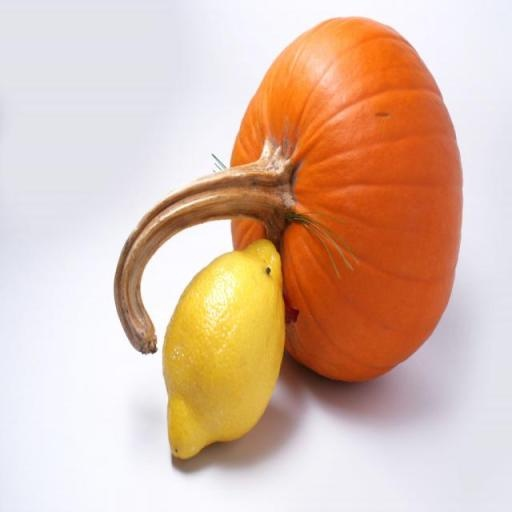fruit: (114, 18, 461, 380), (163, 240, 283, 458)
